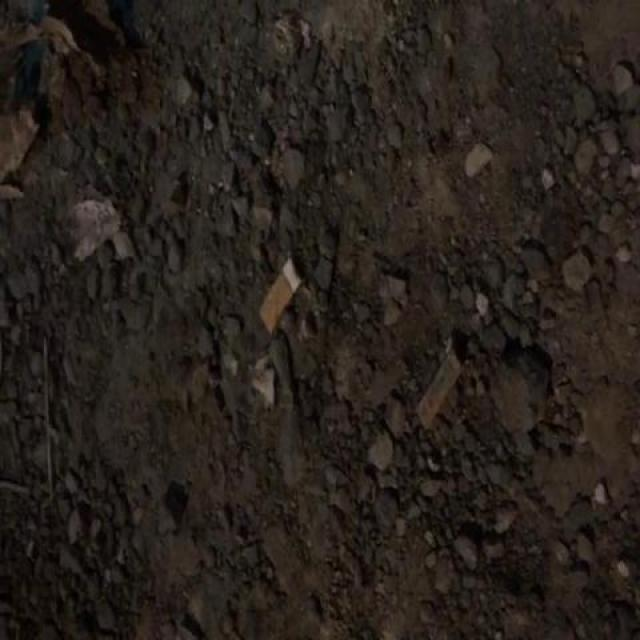non-organic waste: (253, 250, 303, 338)
